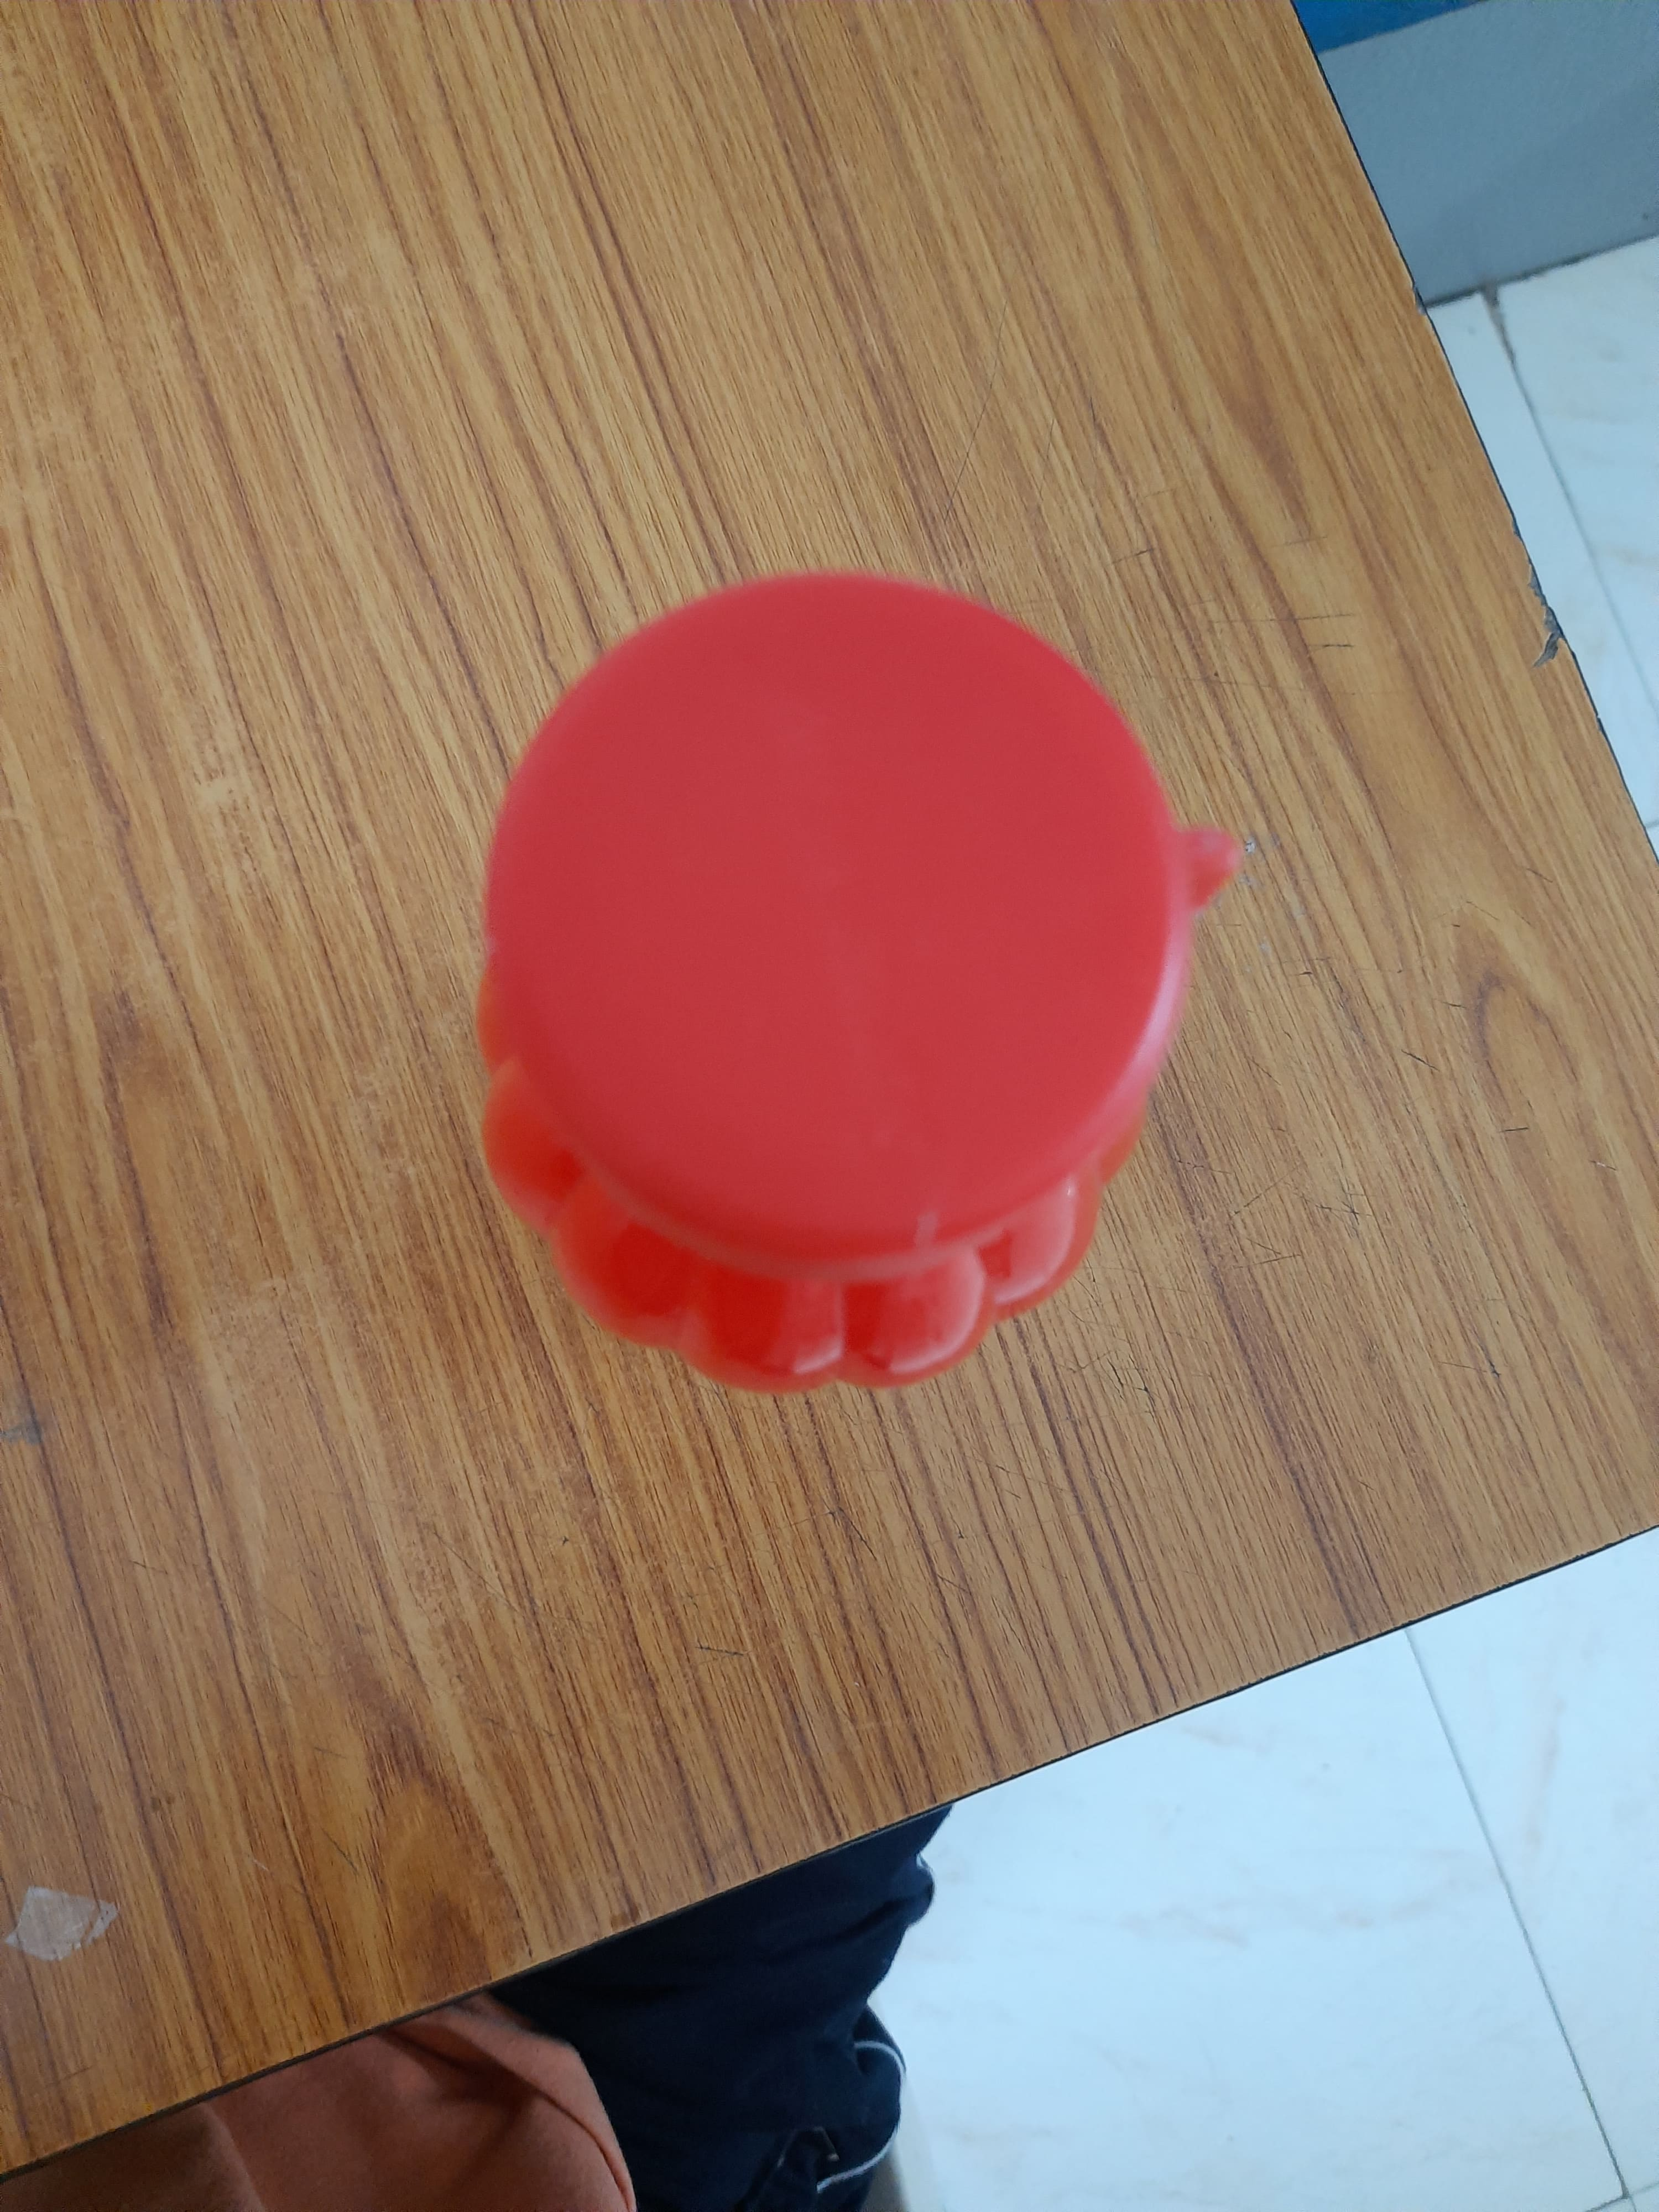Vikash's Water Bottle: (457, 570, 1253, 1418)
